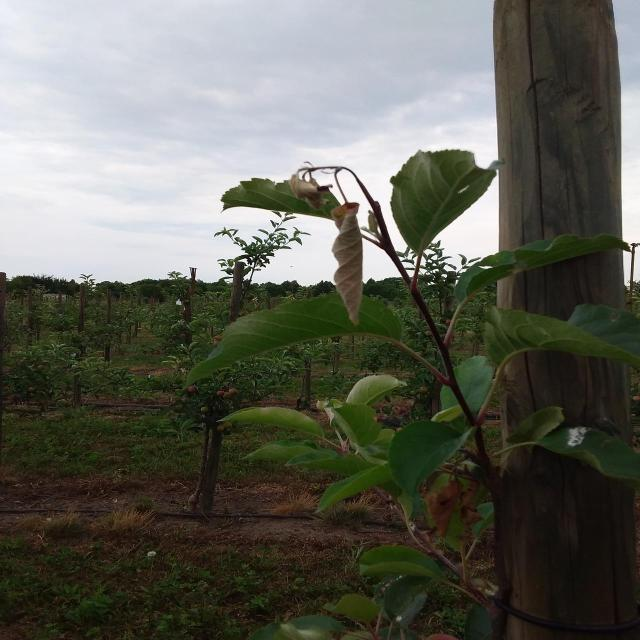-FireBlight-: (274, 140, 386, 318)
